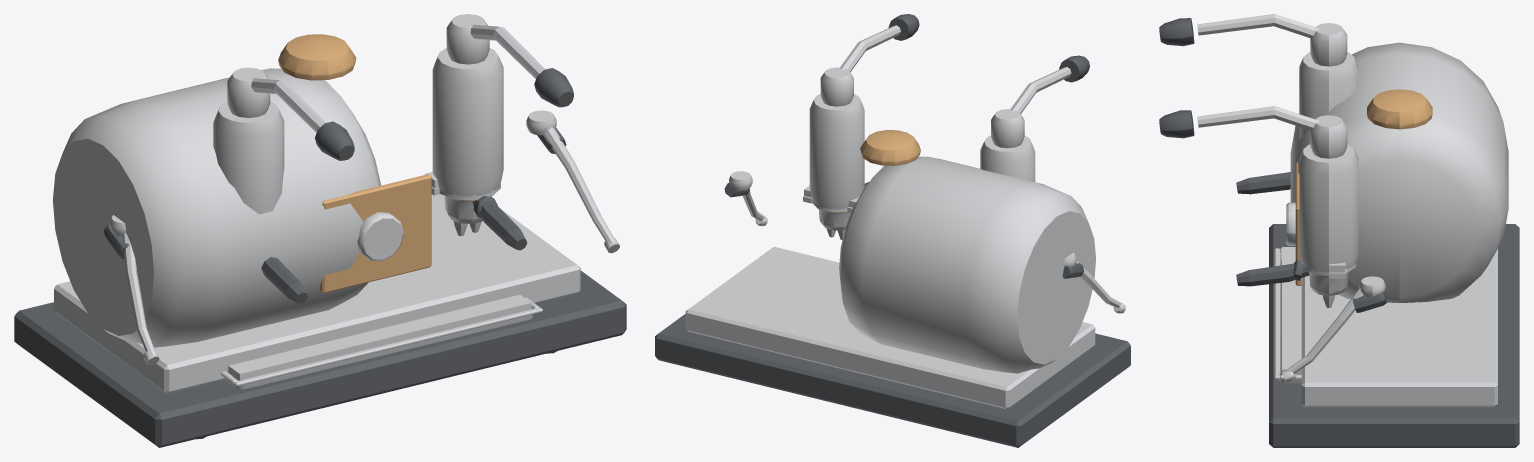
File: bakery-and-cafe-lever-espresso-machine-9c0d50a4__22110.glb
3 renders of one model, left to right at view 1: azimuth 30°, elevation 25°; view 2: azimuth 150°, elevation 25°; view 3: azimuth 270°, elevation 25°, orthographic. The views are drawn at different scales.
Parts seen in each view (by area): view 1: lever-espresso-machine; view 2: lever-espresso-machine; view 3: lever-espresso-machine.
Part boxes in pixels (x1,y1,x2,y2): lever-espresso-machine: (14, 14, 626, 447); lever-espresso-machine: (655, 14, 1130, 447); lever-espresso-machine: (1159, 14, 1519, 447).
Size of the model in its own units: 0.862 by 0.612 by 0.6613.
